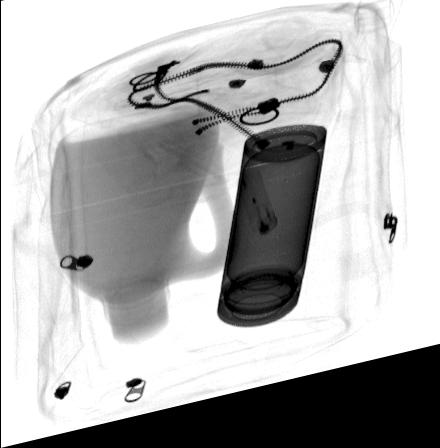Lighter: (234, 181, 279, 250)
